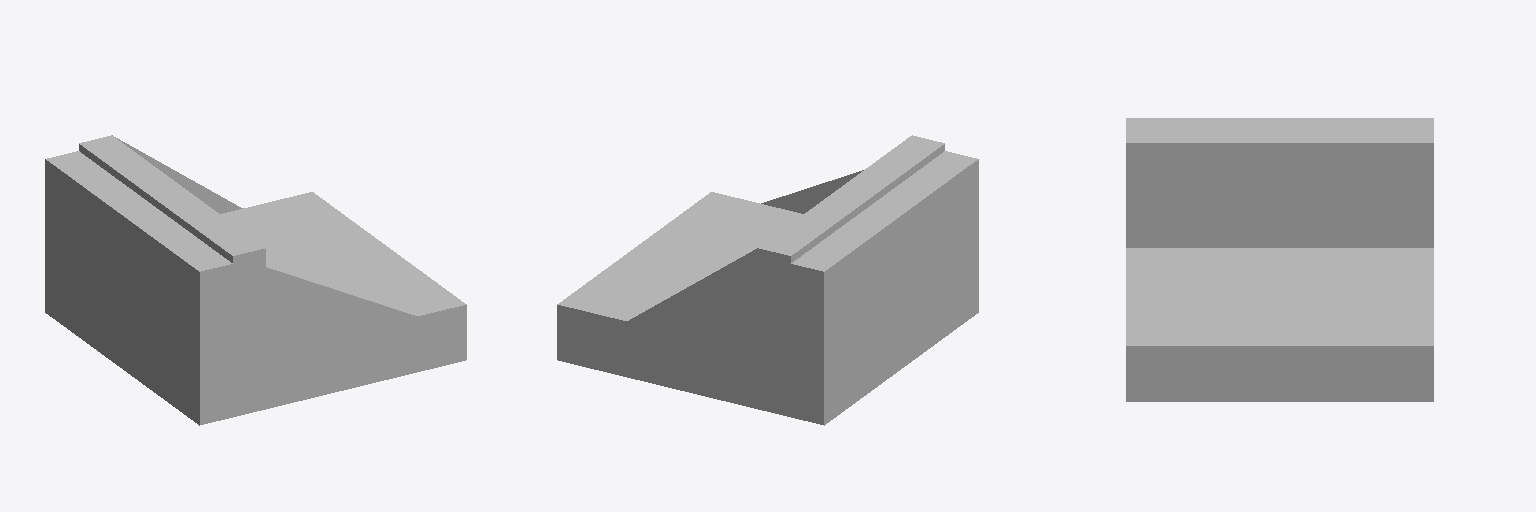
File: roadTile_050.obj
The picture shows the model from 3 angles: view 1: azimuth 30°, elevation 25°; view 2: azimuth 150°, elevation 25°; view 3: azimuth 270°, elevation 25°; orthographic projection.
Visible parts, largest first — view 1: Mesh1 Group1 Model; view 2: Mesh1 Group1 Model; view 3: Mesh1 Group1 Model.
Part boxes in pixels (x1,y1,x2,y2): Mesh1 Group1 Model: (45,135,466,425); Mesh1 Group1 Model: (557,135,978,425); Mesh1 Group1 Model: (1126,118,1433,401).
Bounding box in the file's own units: 3 × 1.73 × 3.